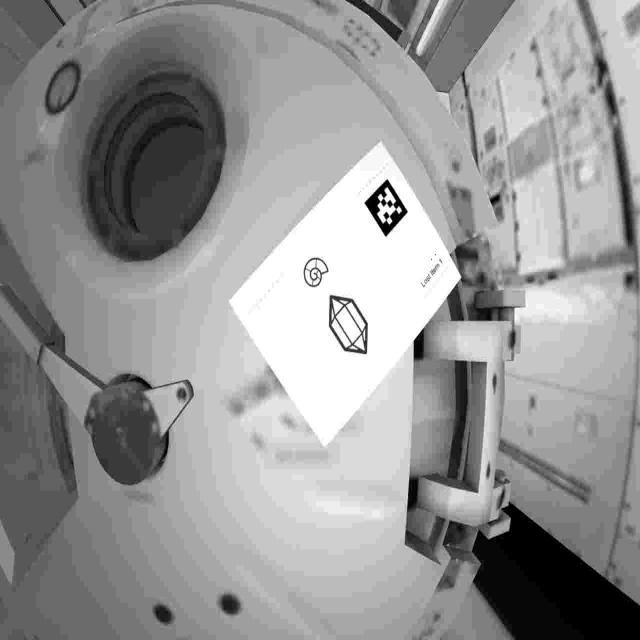crystal: (318, 287, 378, 362)
fossil: (300, 249, 336, 293)
